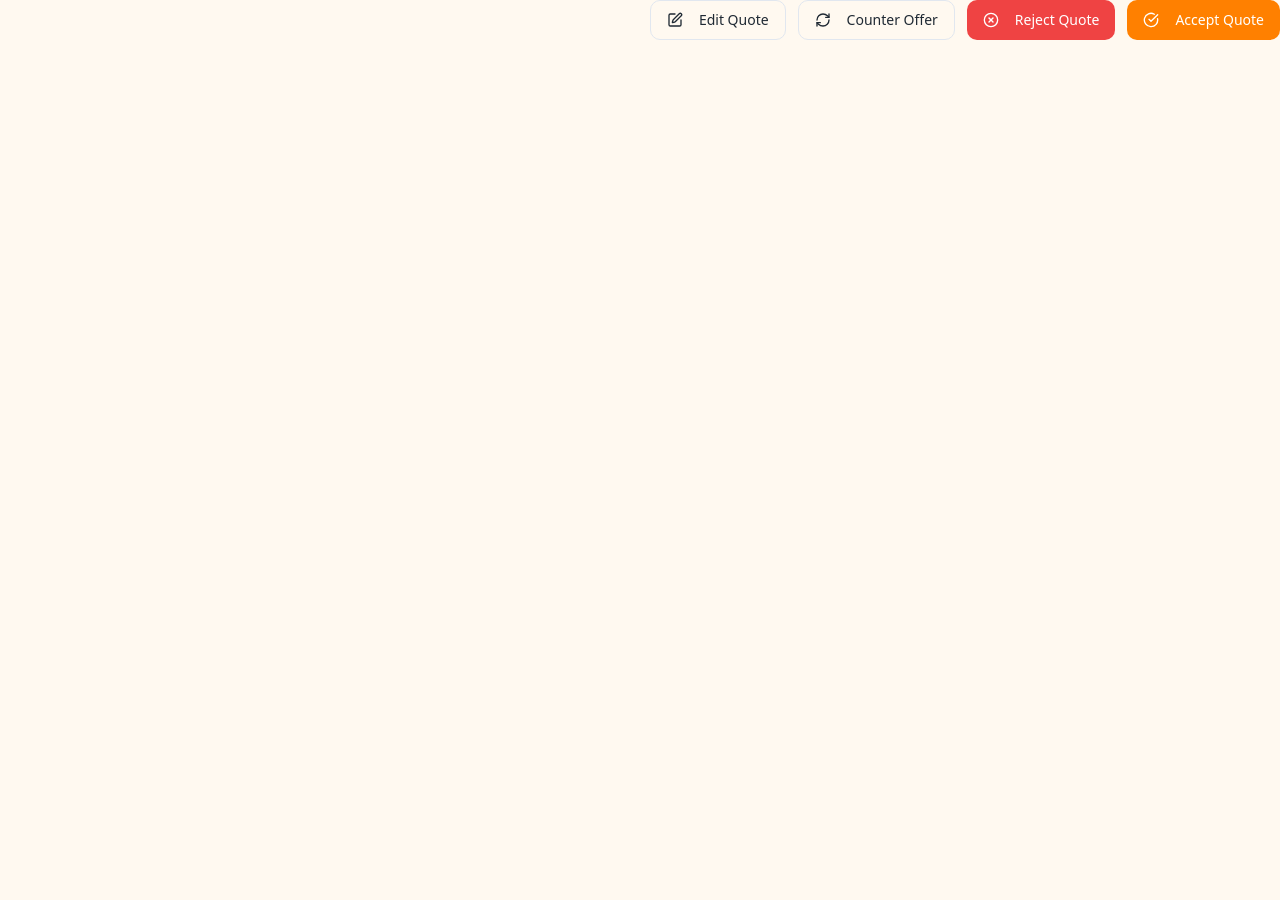
Test case: QuoteActions › Reject Quote Flow › should enable reject button when reason is valid
Step 1. Click the button "Reject Quote" → click(1041, 20), box [967,0,1115,40]
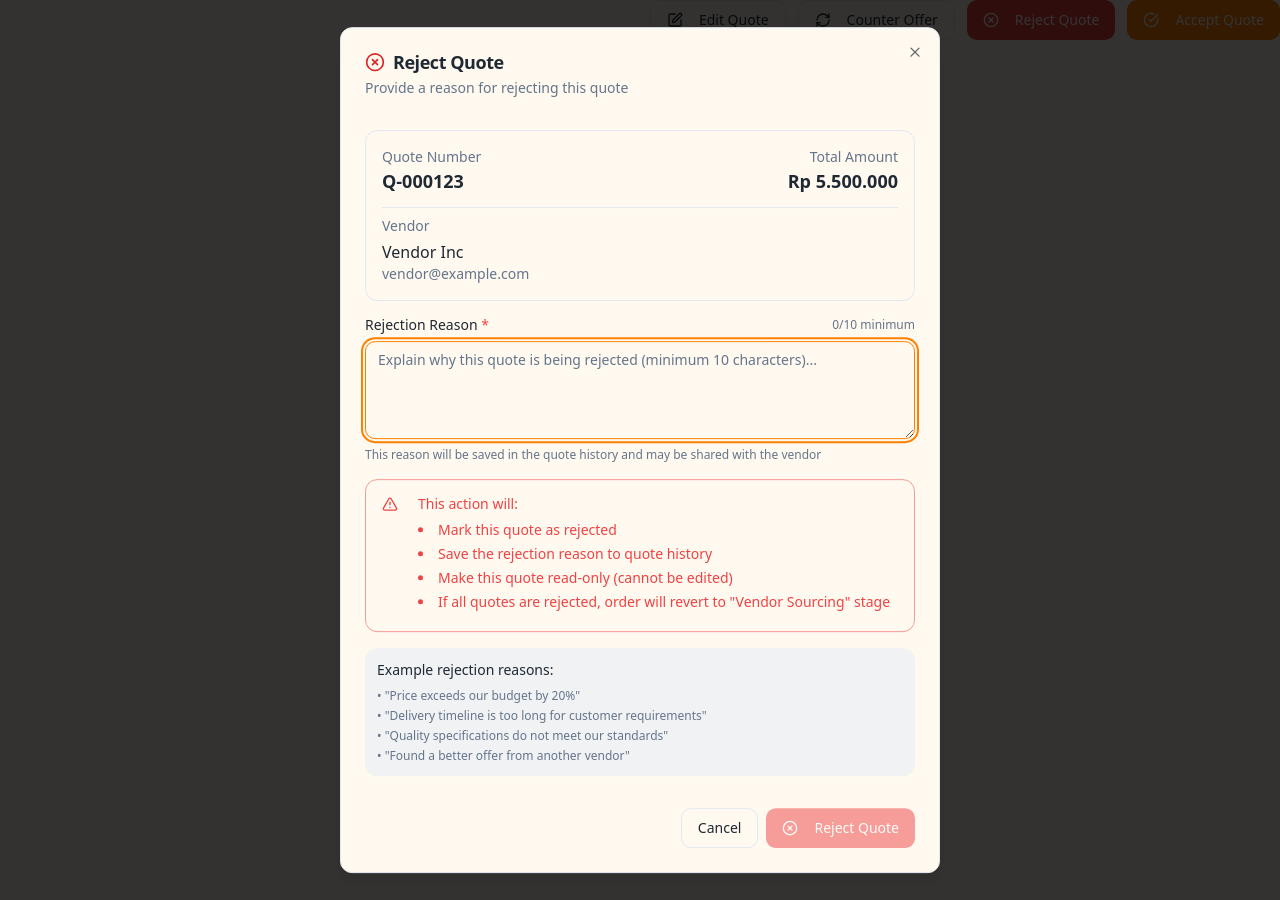
Step 2. Replace the text in the text box with placeholder "Explain why this quote is being rejected" with "This is a valid rejection reason" → (640, 390), box [365,341,915,439]
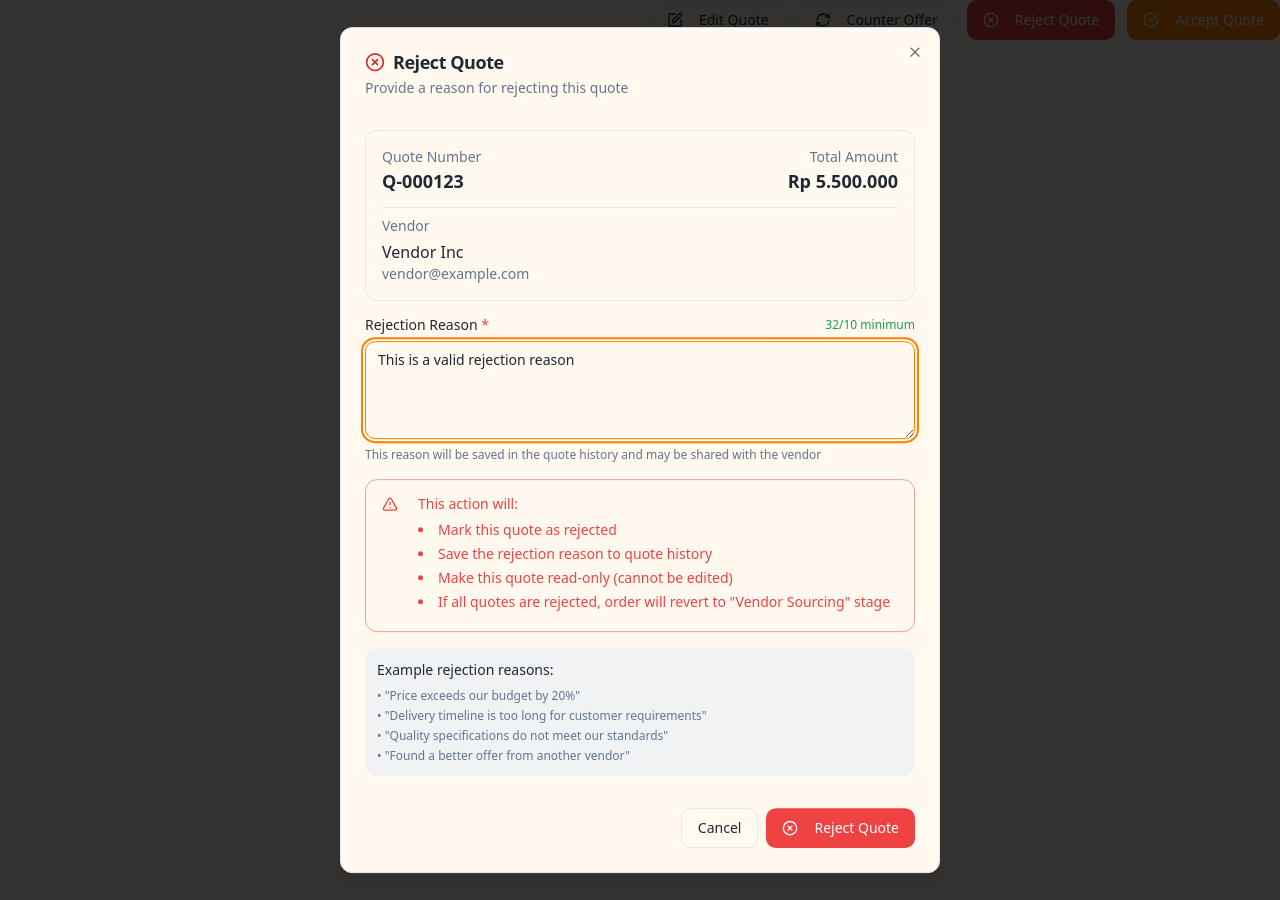
expect the button "Reject Quote" is enabled: met, box [766,808,915,848]
